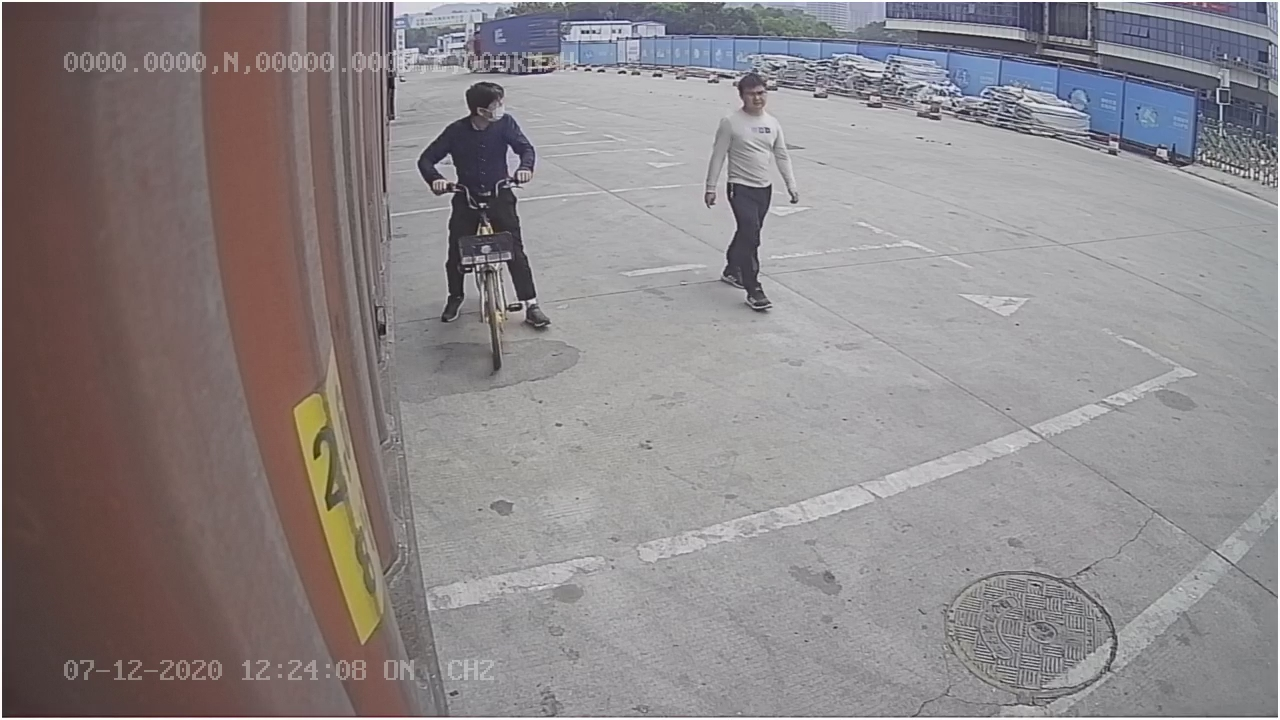person: (699, 67, 799, 315)
